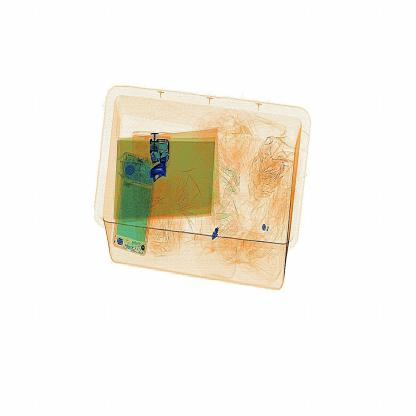knife: (147, 158, 172, 186)
